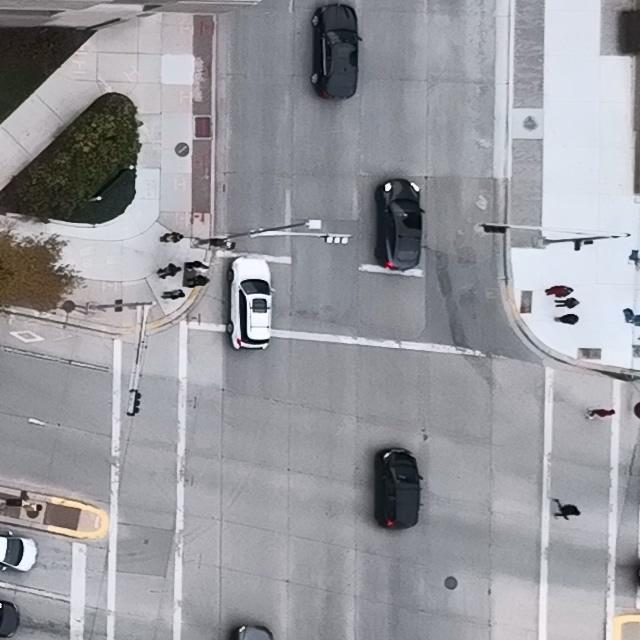car: (311, 4, 363, 101), (374, 179, 425, 273), (225, 256, 275, 350), (374, 448, 423, 529), (0, 530, 38, 572)
